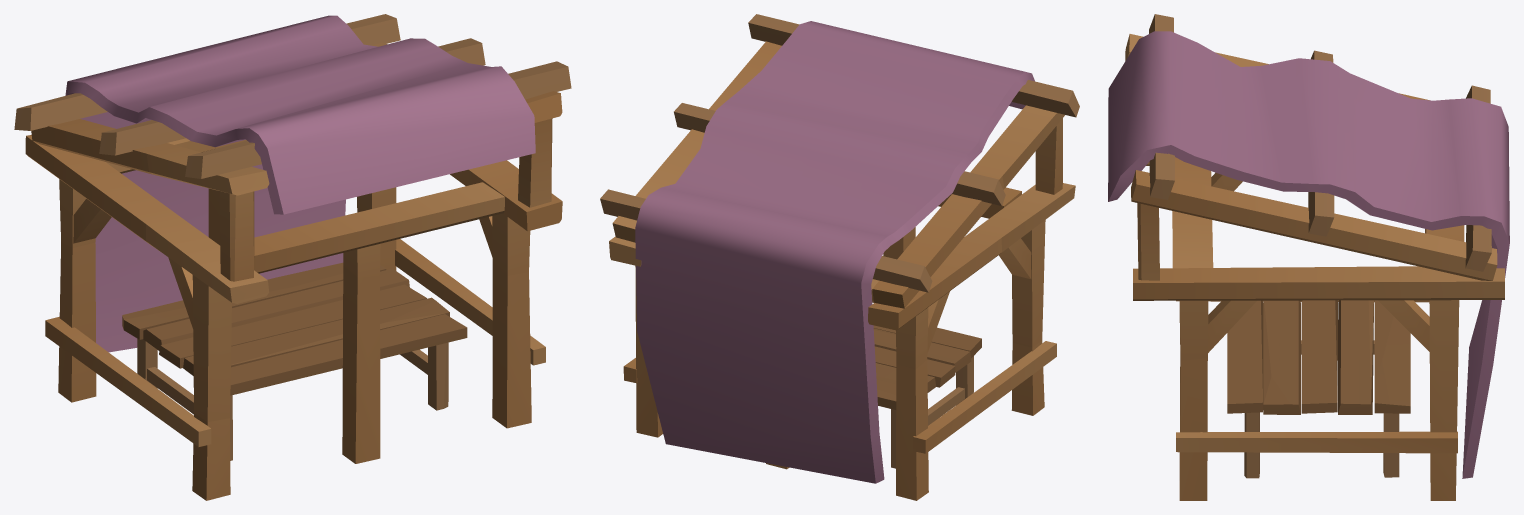
Rendered from Market_G.fbx.
The picture shows the model from 3 angles, left to right: view 1: azimuth 30°, elevation 25°; view 2: azimuth 150°, elevation 25°; view 3: azimuth 270°, elevation 25°; orthographic projection. The views are drawn at different scales.
Parts seen in each view (by area): view 1: Market_G; view 2: Market_G; view 3: Market_G.
Part boxes in pixels (left/top/right/bottom): Market_G: left=14, top=14, right=571, bottom=500; Market_G: left=600, top=14, right=1079, bottom=500; Market_G: left=1108, top=14, right=1509, bottom=500.
Bounding box in the file's own units: 361 × 338 × 361.
